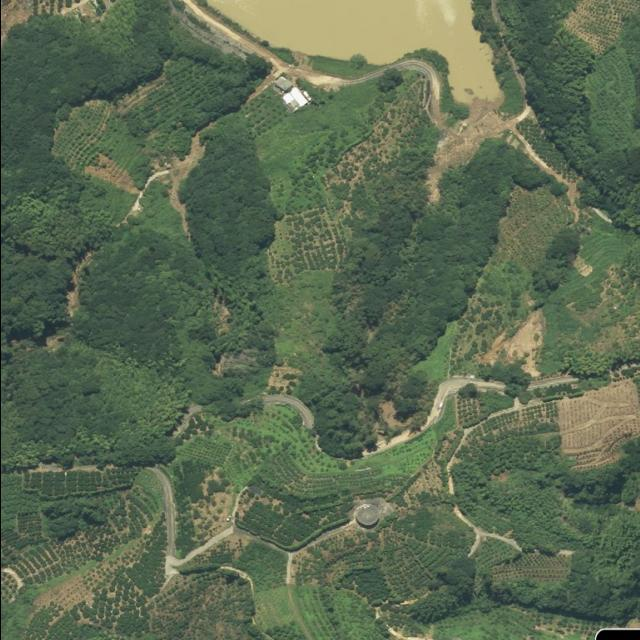landslide: (427, 99, 576, 202)
